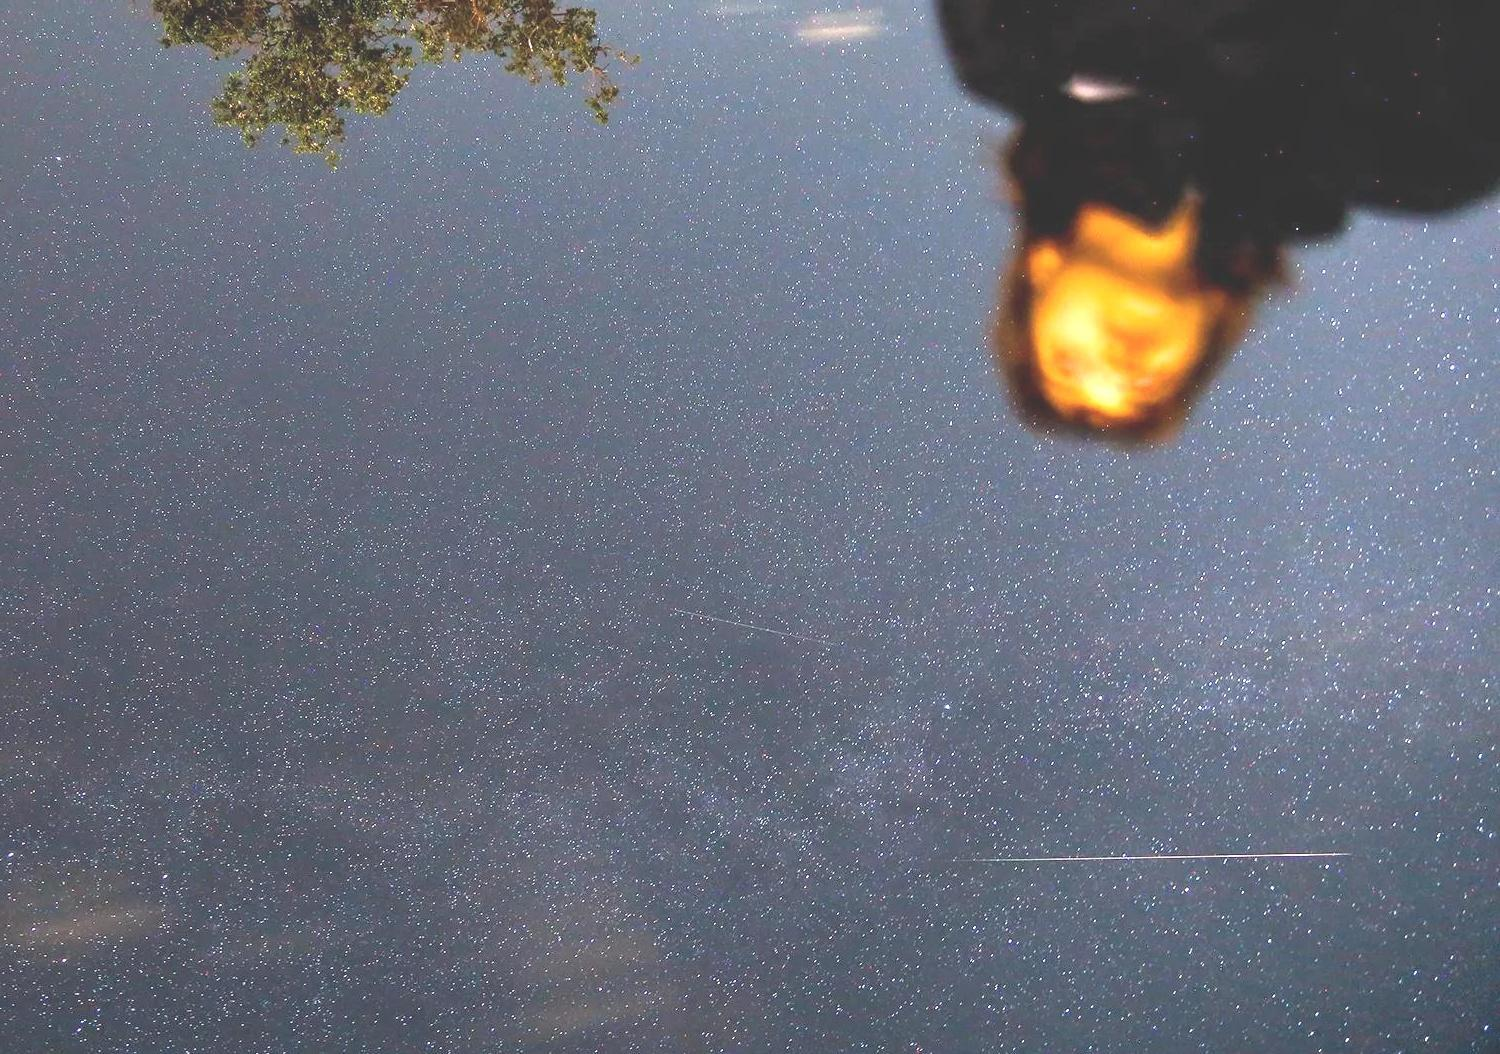meteorite: (972, 829, 1365, 873), (657, 591, 841, 652)
